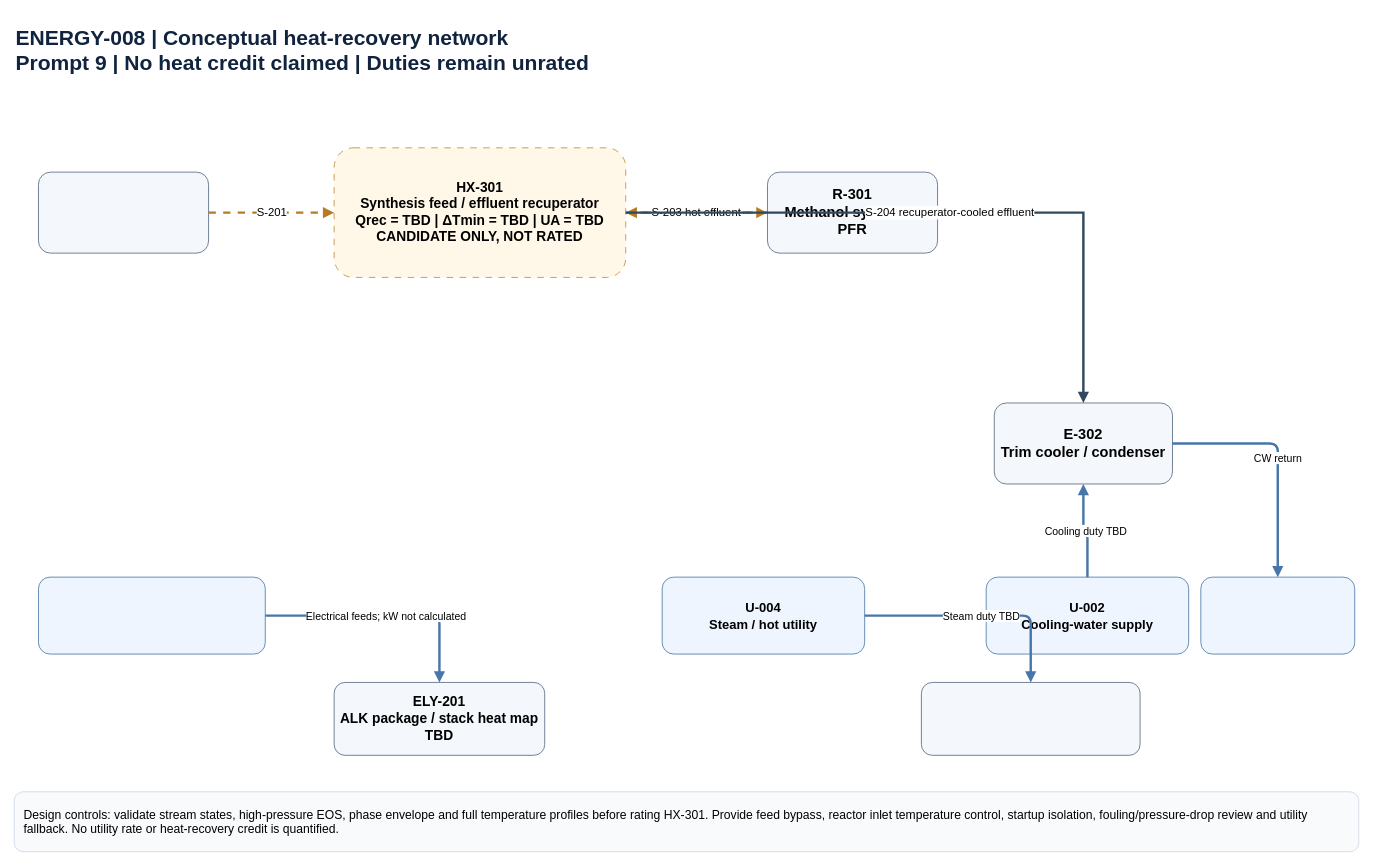
The diagram is 1373 pixels wide and 866 high, and some of its shapes have lost their labels. Each missing label, with the box of its shape:
E-402 Distillation reboiler Duty / steam grade TBD: (921, 682, 1140, 755)
M-301 Fresh + recycle mixer: (38, 171, 209, 253)
U-001 / U-009 Electrical utility headers Loads not quantified: (38, 576, 265, 654)
U-003 CW return: (1200, 576, 1355, 654)
